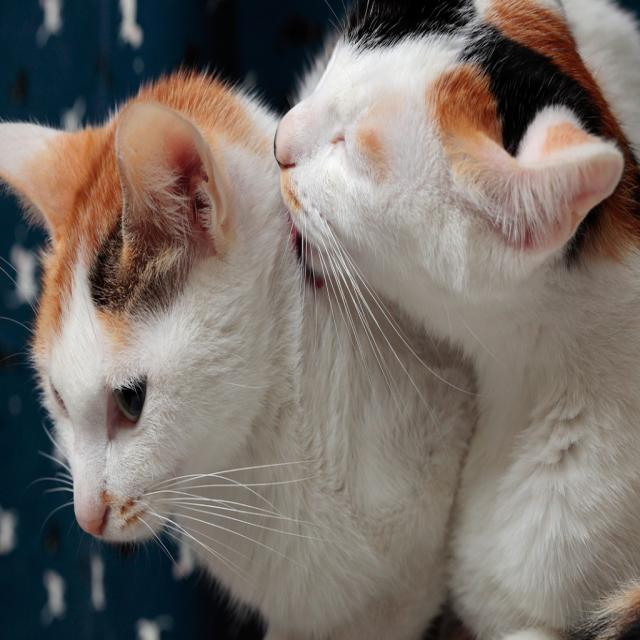Cat: (0, 68, 474, 638), (269, 0, 638, 636)
